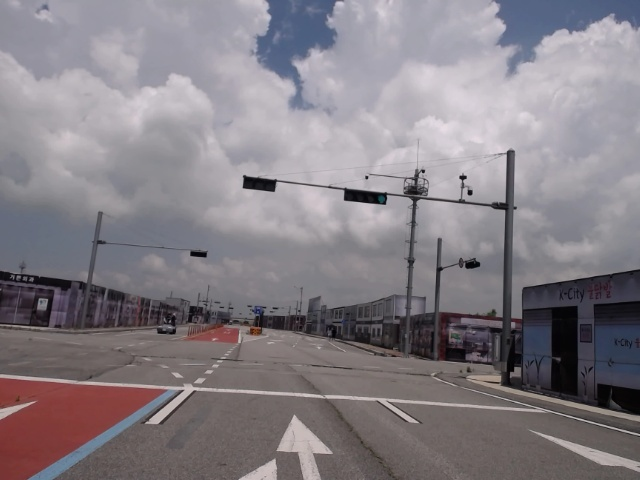straight_green_4: (344, 190, 388, 206)
